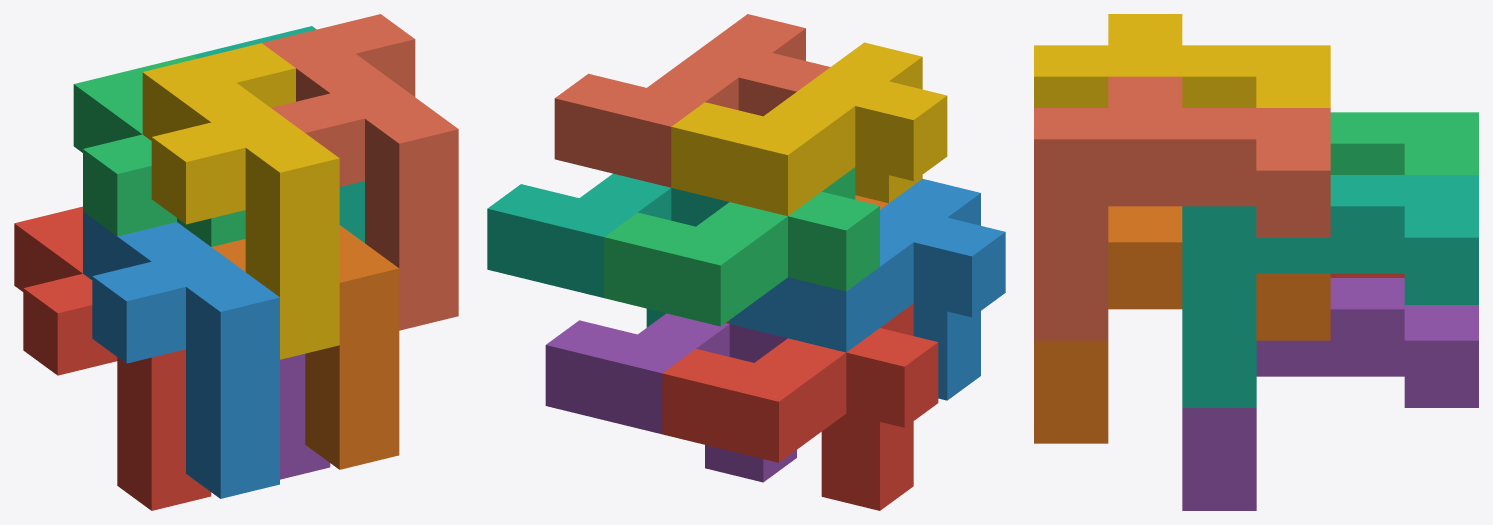
Rendered from tiling.obj.
The picture shows the model from 3 angles, left to right: view 1: azimuth 30°, elevation 25°; view 2: azimuth 150°, elevation 25°; view 3: azimuth 270°, elevation 25°; orthographic projection. The views are drawn at different scales.
Parts seen in each view (by area): view 1: copy_1_domain_4, copy_1_domain_2, copy_1_domain_8, copy_1_domain_1, copy_1_domain_6, copy_1_domain_3, copy_1_domain_5, copy_1_domain_7; view 2: copy_1_domain_1, copy_1_domain_4, copy_1_domain_2, copy_1_domain_3, copy_1_domain_8, copy_1_domain_5, copy_1_domain_7; view 3: copy_1_domain_8, copy_1_domain_7, copy_1_domain_5, copy_1_domain_6, copy_1_domain_4, copy_1_domain_3.
Part boxes in pixels (<box>): copy_1_domain_4: <box>142,43,339,359</box>; copy_1_domain_2: <box>83,211,279,498</box>; copy_1_domain_8: <box>262,14,458,330</box>; copy_1_domain_1: <box>14,206,211,510</box>; copy_1_domain_6: <box>211,225,399,469</box>; copy_1_domain_3: <box>73,55,245,246</box>; copy_1_domain_5: <box>280,354,330,479</box>; copy_1_domain_7: <box>193,26,364,242</box>; copy_1_domain_1: <box>662,303,938,510</box>; copy_1_domain_4: <box>671,42,947,216</box>; copy_1_domain_2: <box>729,179,1005,400</box>; copy_1_domain_3: <box>604,167,879,326</box>; copy_1_domain_8: <box>554,14,830,187</box>; copy_1_domain_5: <box>545,313,796,482</box>; copy_1_domain_7: <box>487,173,729,327</box>; copy_1_domain_8: <box>1034,76,1330,340</box>; copy_1_domain_7: <box>1182,175,1478,407</box>; copy_1_domain_5: <box>1182,278,1478,510</box>; copy_1_domain_6: <box>1034,206,1330,443</box>; copy_1_domain_4: <box>1034,14,1330,107</box>; copy_1_domain_3: <box>1330,112,1478,174</box>.
Size of the model in its own units: 6 by 6 by 6.
